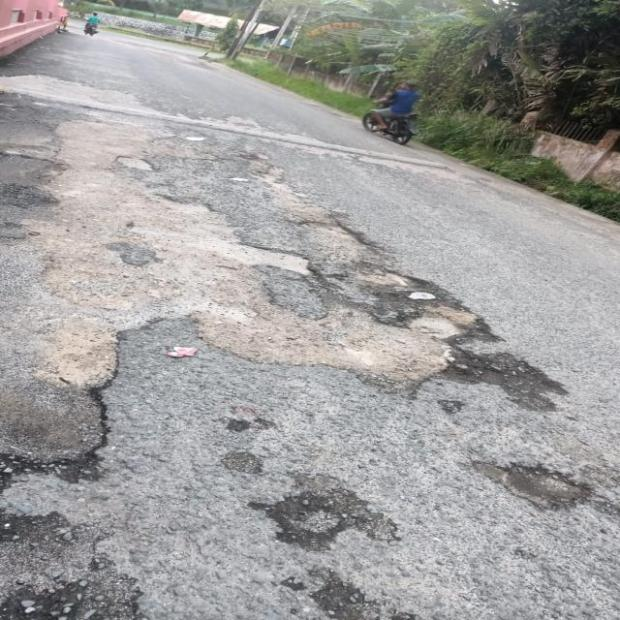lubang: (0, 512, 140, 619), (427, 319, 573, 411), (249, 476, 395, 550), (473, 460, 619, 517), (309, 569, 417, 619), (362, 269, 472, 315), (298, 214, 380, 249)
